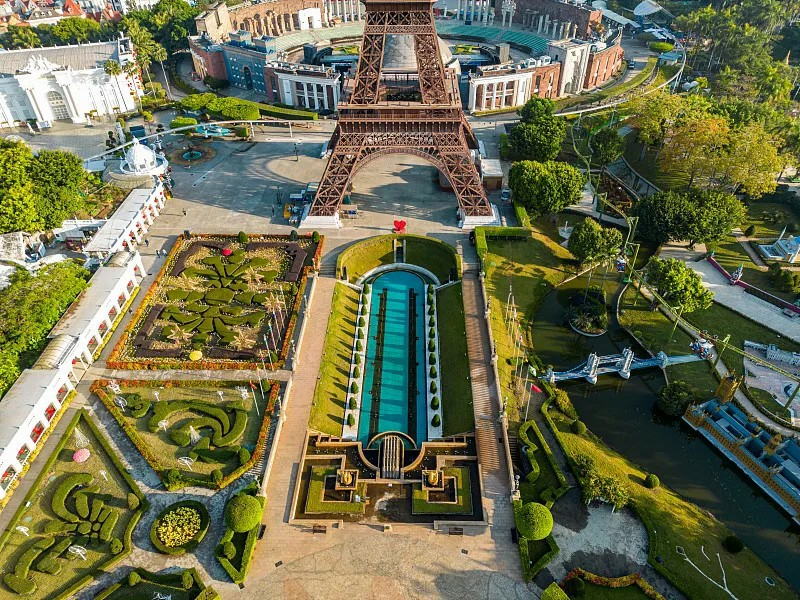Eiffel: (300, 2, 500, 228)
